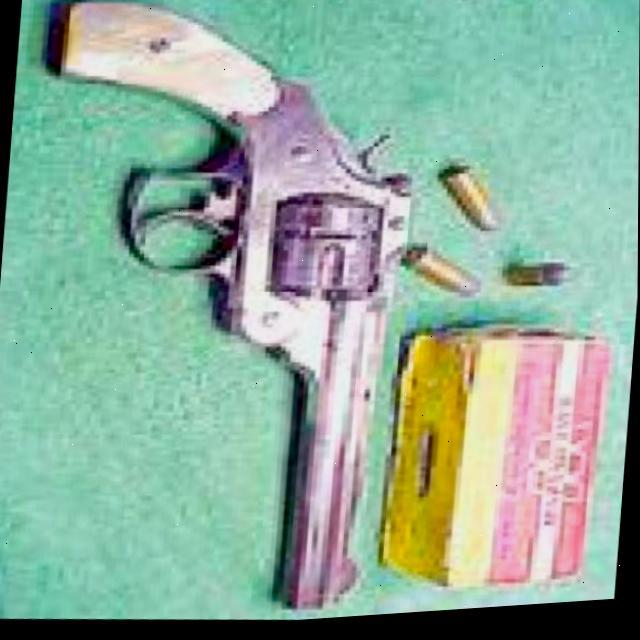gun: (9, 0, 426, 636)
